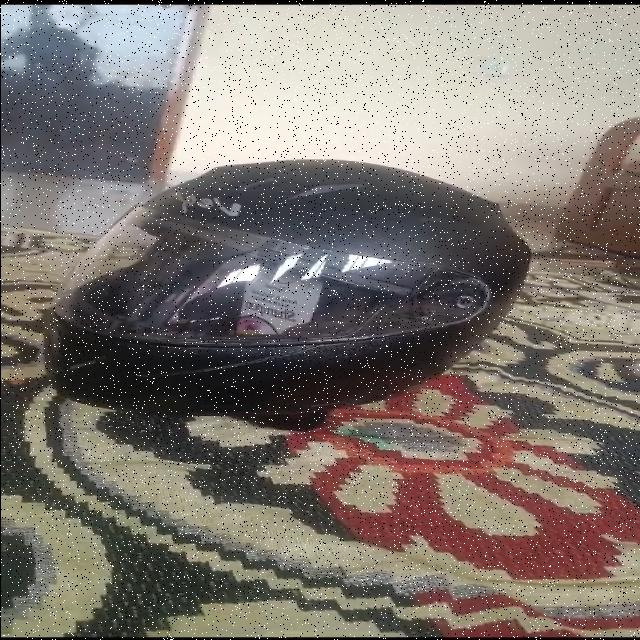Helmet: (45, 159, 529, 410)
